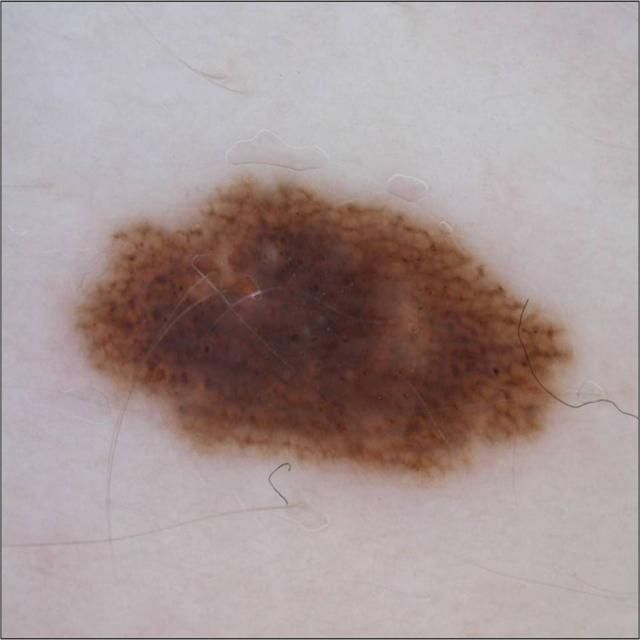Benign: (62, 162, 576, 488)
